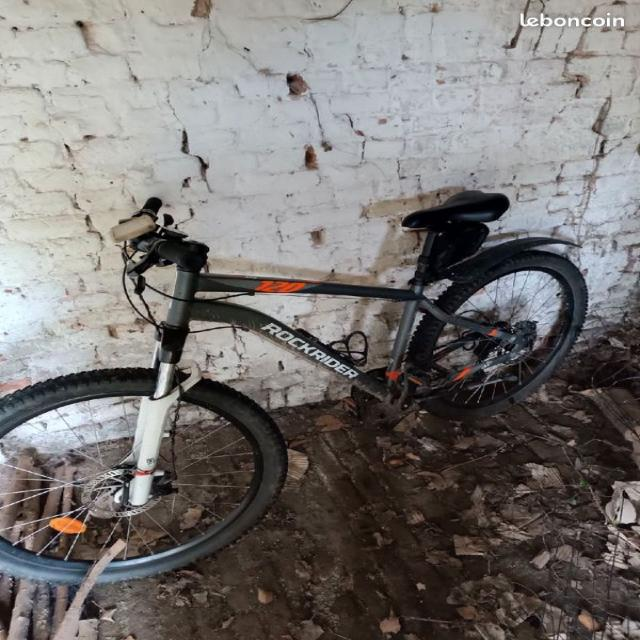Bike: (0, 191, 587, 582)
